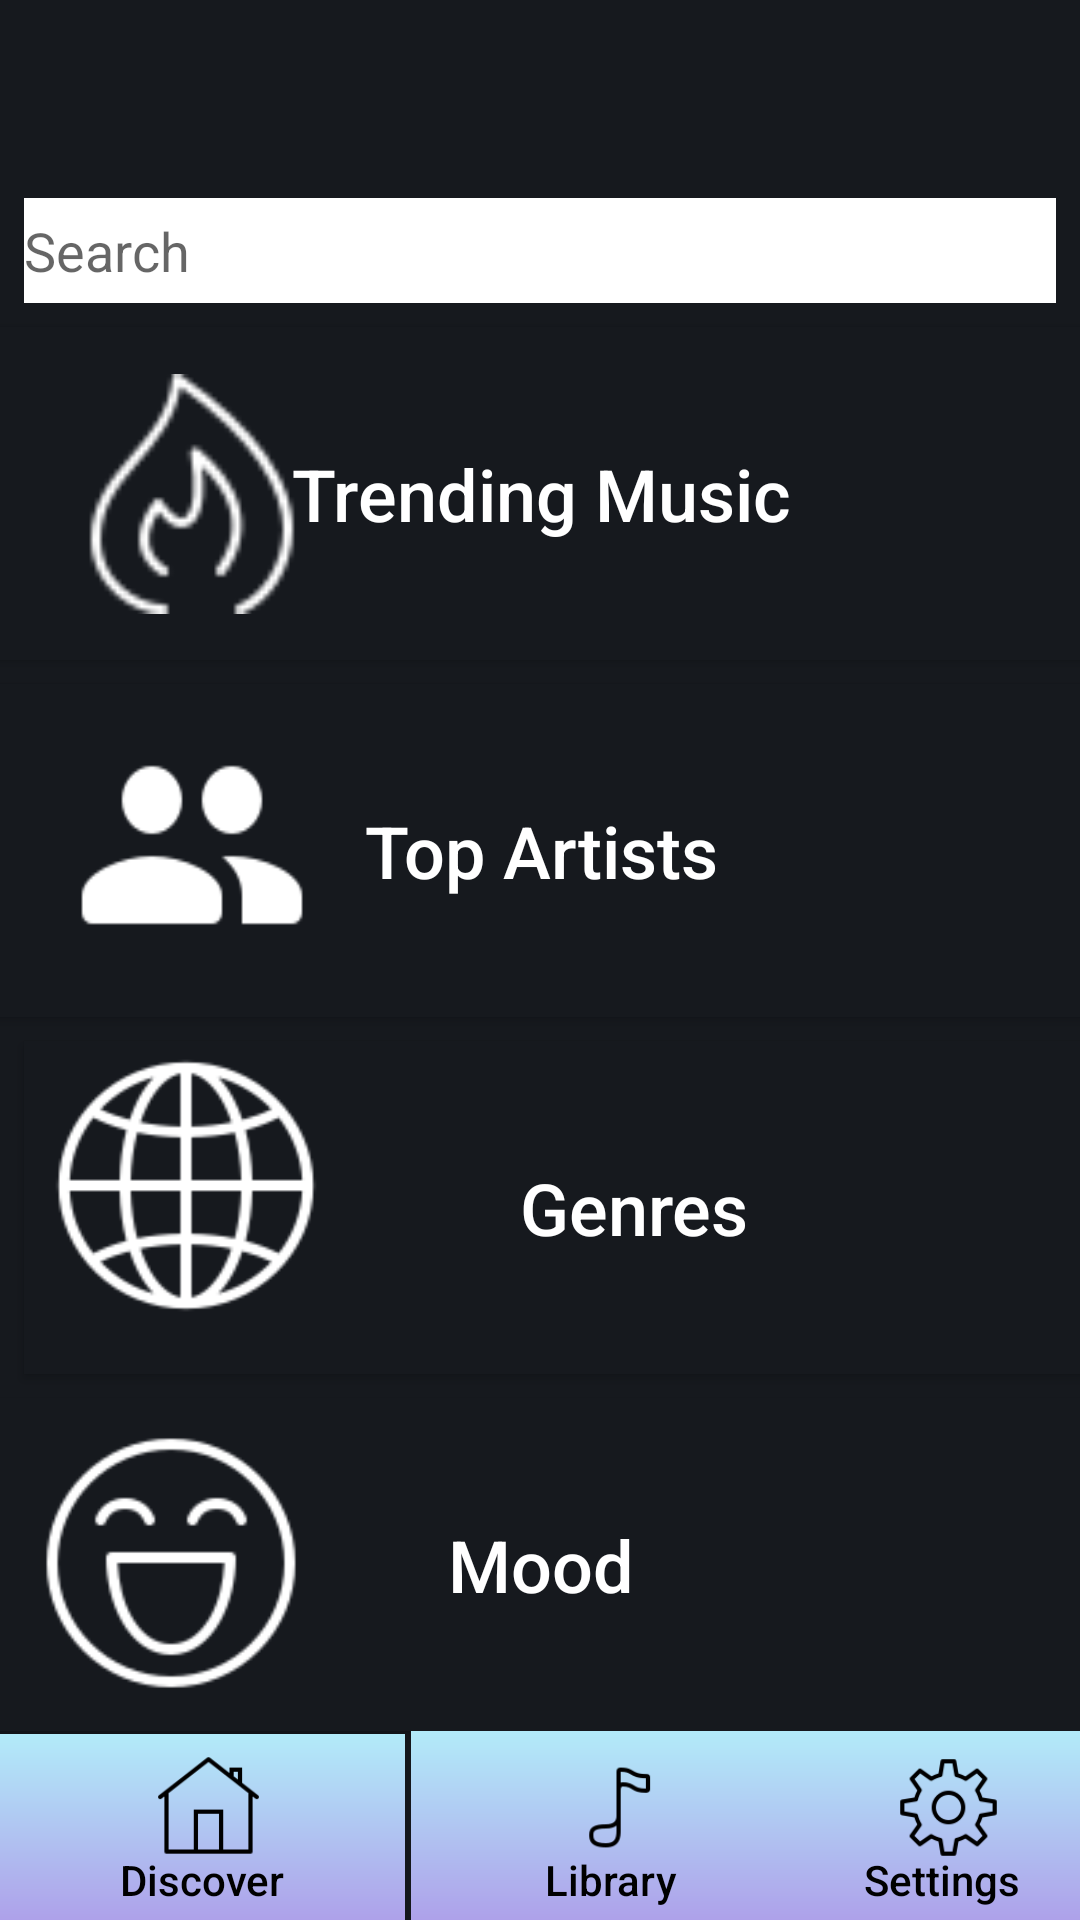

Icons on this 1080×1920 Android screen, each with the point to tap as [x,y]:
globe: [186,1185]
home: [208,1807]
music: [616,1807]
smile: [171,1563]
users: [192,845]
